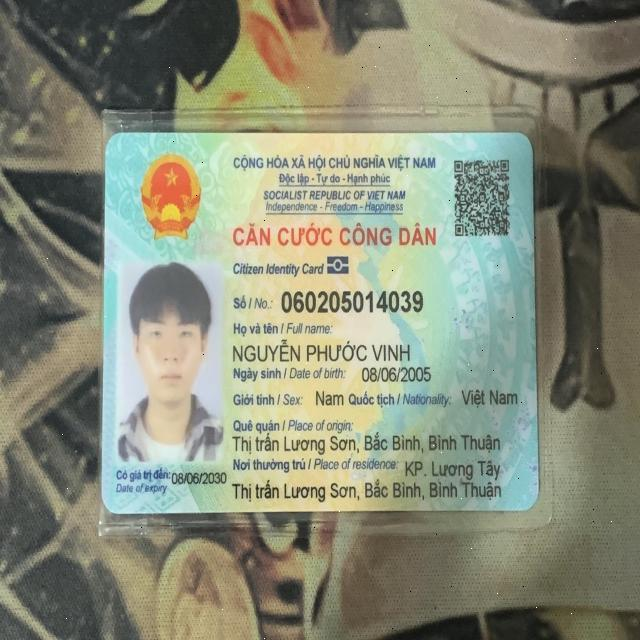current_place: (229, 473, 502, 504), (394, 456, 510, 480)
dob: (360, 364, 436, 386)
expire_date: (170, 472, 228, 486)
gender: (313, 386, 345, 409)
id: (278, 284, 427, 317)
name: (230, 338, 417, 365)
nationality: (457, 380, 530, 411)
origin_place: (226, 432, 505, 454)
